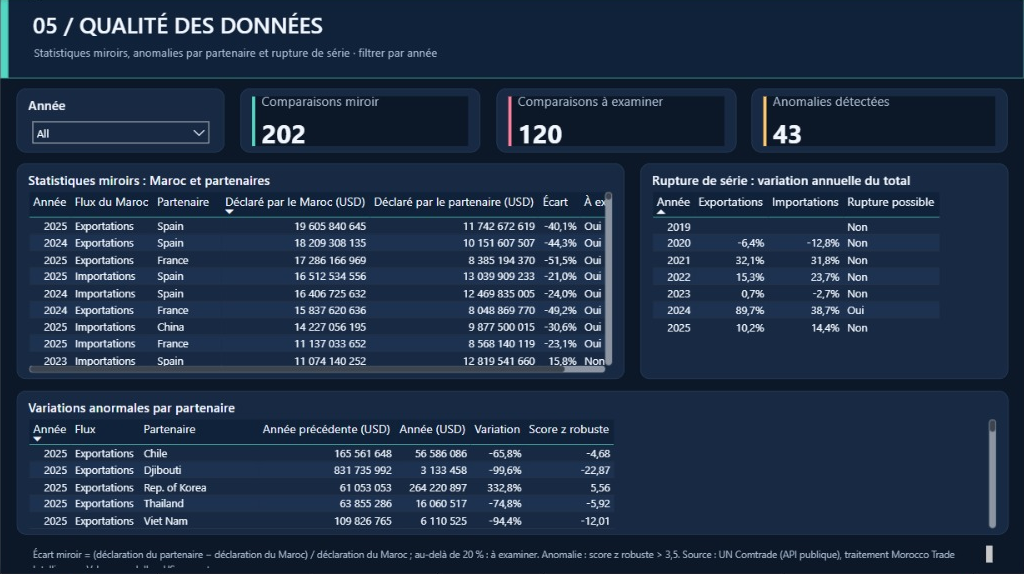

What the dashboard file says about the page in this screenshot:
{"tool":"powerbi","page":{"name":"Qualité des données","canvas":[1280,720],"ordinal":4},"visuals":[{"type":"shape","box":[0,0,1280,100],"z":100},{"type":"shape","box":[0,0,10,100],"z":200},{"type":"textbox","box":[40,14,1100,44],"z":300},{"type":"textbox","box":[42,58,1180,30],"z":400},{"type":"textbox","box":[40,684,1200,28],"z":500},{"type":"slicer","title":"Année","fields":{"Values":["dim_year.year"]},"box":[20,112,260,80],"z":600},{"type":"cardVisual","fields":{"Data":["mart_mirror_gaps.Comparaisons miroir"]},"box":[300,112,300,80],"z":700},{"type":"cardVisual","fields":{"Data":["mart_mirror_gaps.Comparaisons à examiner"]},"box":[620,112,300,80],"z":800},{"type":"cardVisual","fields":{"Data":["mart_flow_anomalies.Anomalies détectées"]},"box":[940,112,320,80],"z":900},{"type":"tableEx","title":"Statistiques miroirs : Maroc et partenaires","fields":{"Values":["mart_mirror_gaps.year","mart_mirror_gaps.flow_label","mart_mirror_gaps.counterpart_name","mart_mirror_gaps.declared_value_usd","mart_mirror_gaps.mirror_value_usd","mart_mirror_gaps.gap_ratio","mart_mirror_gaps.review_label"]},"box":[20,206,760,270],"z":1000},{"type":"tableEx","title":"Rupture de série : variation annuelle du total","fields":{"Values":["mart_trade_overview.year","mart_trade_overview.exports_growth","mart_trade_overview.imports_growth","mart_trade_overview.series_break_label"]},"box":[800,206,460,270],"z":1100},{"type":"tableEx","title":"Variations anormales par partenaire","fields":{"Values":["mart_flow_anomalies.year","mart_flow_anomalies.flow_label","mart_flow_anomalies.partner_name","mart_flow_anomalies.previous_value_usd","mart_flow_anomalies.trade_value_usd","mart_flow_anomalies.change_ratio","mart_flow_anomalies.robust_z"]},"box":[20,490,1240,180],"z":1200}]}

Visuals, with their boxes in screenshot pixels (x1, y1, x2, y2), scaled from the page's 1280x720 canvas onto the 1024x574 screenshot:
shape: select_region(0, 0, 1023, 80)
shape: select_region(0, 0, 8, 80)
textbox: select_region(32, 11, 912, 46)
textbox: select_region(34, 46, 978, 70)
textbox: select_region(32, 545, 992, 568)
"Année" slicer: select_region(16, 89, 224, 153)
cardVisual - mart_mirror_gaps.Comparaisons miroir: select_region(240, 89, 480, 153)
cardVisual - mart_mirror_gaps.Comparaisons à examiner: select_region(496, 89, 736, 153)
cardVisual - mart_flow_anomalies.Anomalies détectées: select_region(752, 89, 1008, 153)
"Statistiques miroirs : Maroc et partenaires" tableEx: select_region(16, 164, 624, 379)
"Rupture de série : variation annuelle du total" tableEx: select_region(640, 164, 1008, 379)
"Variations anormales par partenaire" tableEx: select_region(16, 391, 1008, 534)
